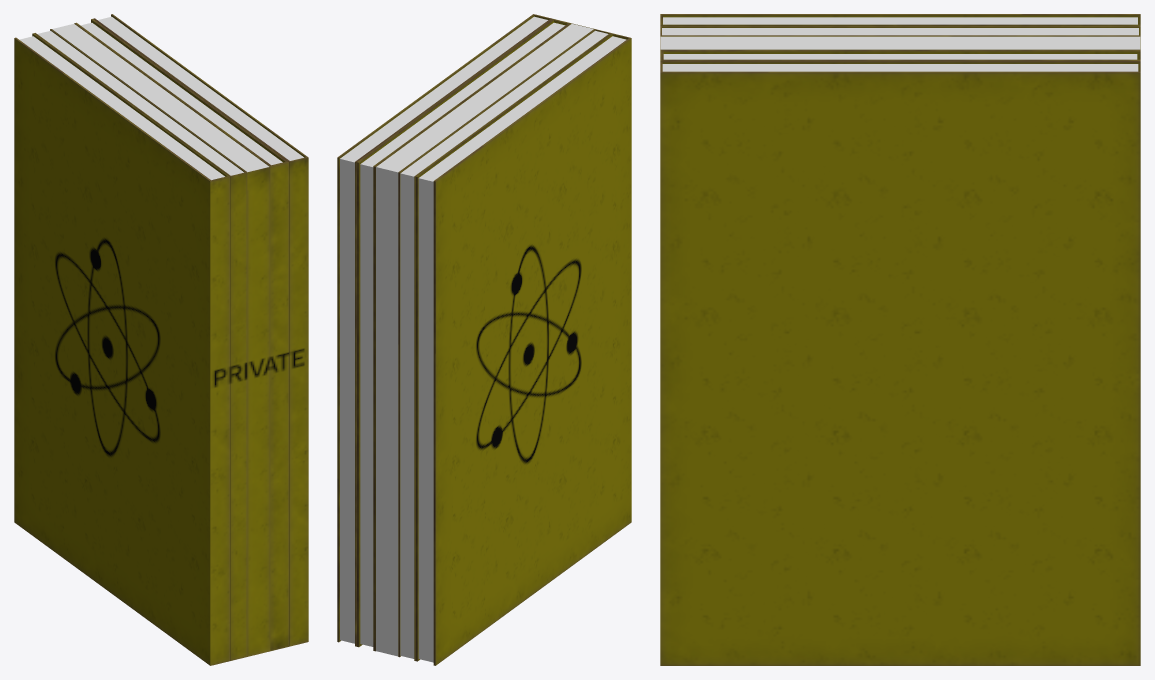
Rendered from books.fbx.
3 renders of one model, left to right at view 1: azimuth 30°, elevation 25°; view 2: azimuth 150°, elevation 25°; view 3: azimuth 270°, elevation 25°, orthographic. The views are drawn at different scales.
Parts seen in each view (by area): view 1: Books; view 2: Books; view 3: Books.
Part boxes in pixels (x1,y1,x2,y2): Books: (14, 14, 308, 665); Books: (337, 14, 631, 665); Books: (660, 14, 1140, 665).
Size of the model in its own units: 5.01 by 23.62 by 17.32.
2 materials, 1 textured.
